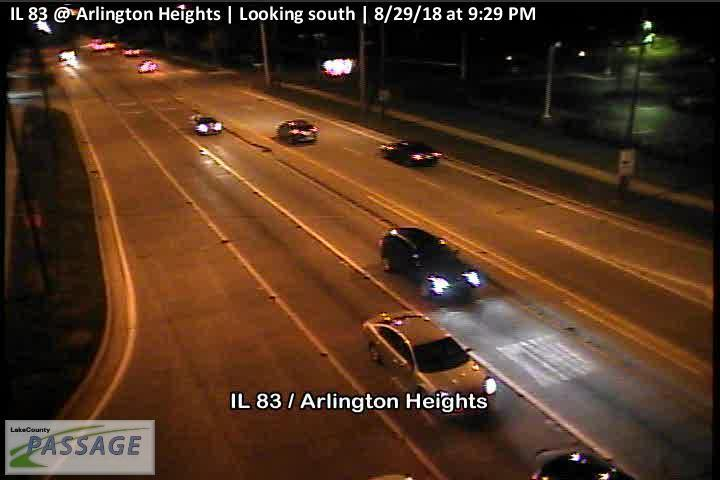SUV: (379, 226, 481, 301)
Sedan: (361, 310, 496, 416), (382, 139, 441, 169), (278, 119, 319, 145), (193, 117, 223, 137)
